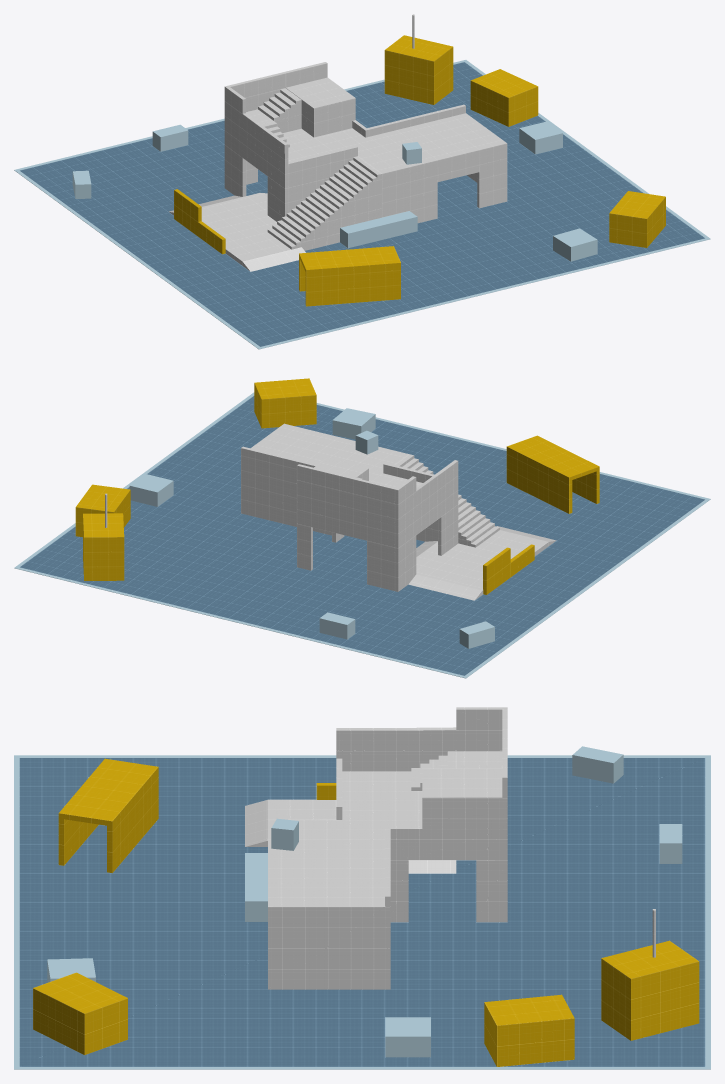
File: Greybox.glb
3 views of the same model, one above another, from view 1: azimuth 30°, elevation 25°; view 2: azimuth 150°, elevation 25°; view 3: azimuth 270°, elevation 25° (orthographic). The views are drawn at different scales.
Visible parts, largest first — view 1: Ground_Mesh, Structure_Prefab, Stairs_650_400_300_Prefab, Tunnel_Prefab, Ramp_Mesh, Box_350x250x300_Prefab, Box_350x250x200_Prefab_1, Box_350x250x200_Prefab, Wall_Prefab, border_1, border, Stairs_200x100x200_Prefab_1_ (+2 smaller); view 2: Ground_Mesh, Structure_Prefab, Tunnel_Prefab, Ramp_Mesh, Box_350x250x200_Prefab, Box_350x250x300_Prefab, Stairs_650_400_300_Prefab, Box_350x250x200_Prefab_1, Wall_Prefab, border_2, border, border_3 (+1 smaller); view 3: Ground_Mesh, Structure_Prefab, Box_350x250x300_Prefab, Tunnel_Prefab, Box_350x250x200_Prefab, Box_350x250x200_Prefab_1, Ramp_Mesh, border_3, border_1, border_2, border, Box_100x100x100_Prefab__15_ (+7 smaller).
Boxes of the visible parts, x1,y1,x2,y2 form: Ground_Mesh: [20, 62, 704, 346]; Structure_Prefab: [224, 62, 507, 245]; Stairs_650_400_300_Prefab: [267, 156, 381, 249]; Tunnel_Prefab: [299, 246, 400, 306]; Ramp_Mesh: [169, 193, 326, 271]; Box_350x250x300_Prefab: [384, 35, 453, 104]; Box_350x250x200_Prefab_1: [470, 69, 538, 126]; Box_350x250x200_Prefab: [609, 191, 665, 247]; Wall_Prefab: [174, 189, 225, 254]; border_1: [261, 238, 707, 348]; border: [14, 169, 261, 349]; Stairs_200x100x200_Prefab_1_: [258, 88, 301, 120]; Ground_Mesh: [20, 396, 704, 675]; Structure_Prefab: [241, 423, 458, 591]; Tunnel_Prefab: [506, 435, 599, 513]; Ramp_Mesh: [408, 526, 556, 600]; Box_350x250x200_Prefab: [254, 378, 316, 428]; Box_350x250x300_Prefab: [83, 513, 124, 580]; Stairs_650_400_300_Prefab: [395, 454, 499, 547]; Box_350x250x200_Prefab_1: [75, 484, 130, 537]; Wall_Prefab: [483, 544, 534, 594]; border_2: [17, 567, 463, 677]; border: [463, 498, 710, 678]; border_3: [14, 392, 254, 568]; Ground_Mesh: [19, 758, 705, 1066]; Structure_Prefab: [268, 707, 507, 989]; Box_350x250x300_Prefab: [601, 940, 699, 1040]; Tunnel_Prefab: [58, 758, 158, 873]; Box_350x250x200_Prefab: [33, 972, 127, 1055]; Box_350x250x200_Prefab_1: [484, 994, 574, 1066]; Ramp_Mesh: [245, 799, 456, 873]; border_3: [14, 1067, 710, 1069]; border_1: [14, 758, 19, 1066]; border_2: [705, 758, 710, 1066]; border: [14, 755, 710, 757]; Box_100x100x100_Prefab__15_: [593, 750, 623, 783].
Bounding box in the file's own units: 32.5 × 7.01 × 30.5.
Materials: 4 (3 with a texture image).
